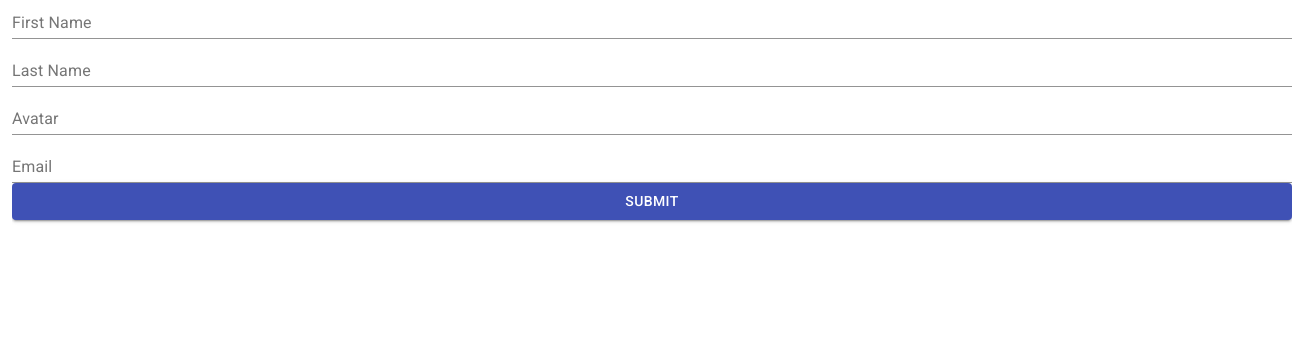
Scenario: <UserForm /> › should show error, for missing fields
Click the button "Submit" at (652, 201), box [12,183,1292,220]
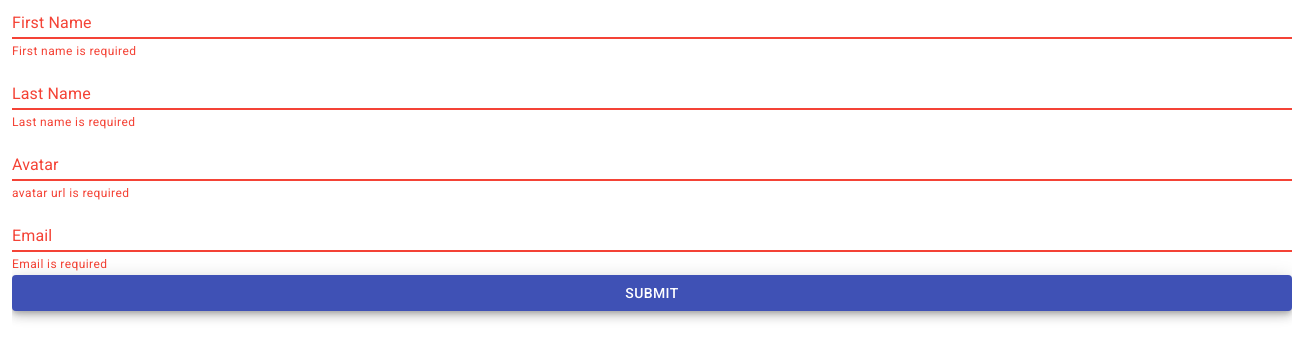
Expected: the text "First name is required" is shown, [12,44,136,58]
